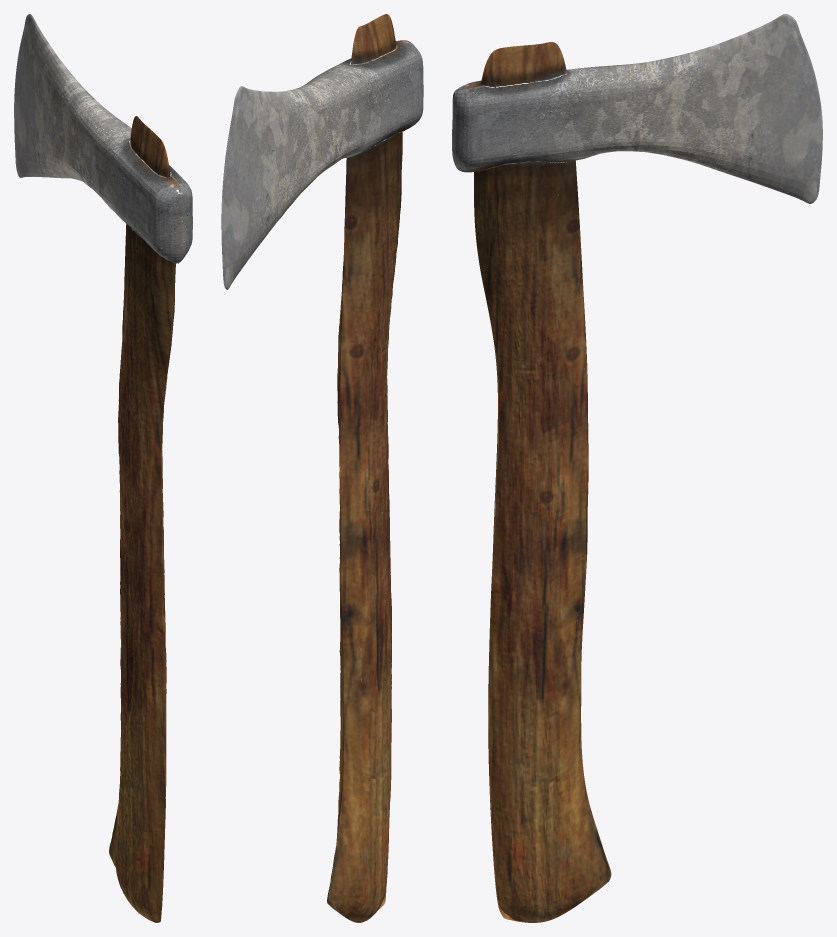
Rendered from hache.fbx.
The picture shows the model from 3 angles, left to right: view 1: azimuth 30°, elevation 25°; view 2: azimuth 150°, elevation 25°; view 3: azimuth 270°, elevation 25°; orthographic projection. The views are drawn at different scales.
Parts seen in each view (by area): view 1: Plane.001; view 2: Plane.001; view 3: Plane.001.
Boxes of the visible parts, <box> form: Plane.001: <box>14,14,192,922</box>; Plane.001: <box>221,14,423,922</box>; Plane.001: <box>452,14,822,922</box>.
Size of the model in its own units: 50.26 by 983 by 364.
Materials: 1 (1 with a texture image).
